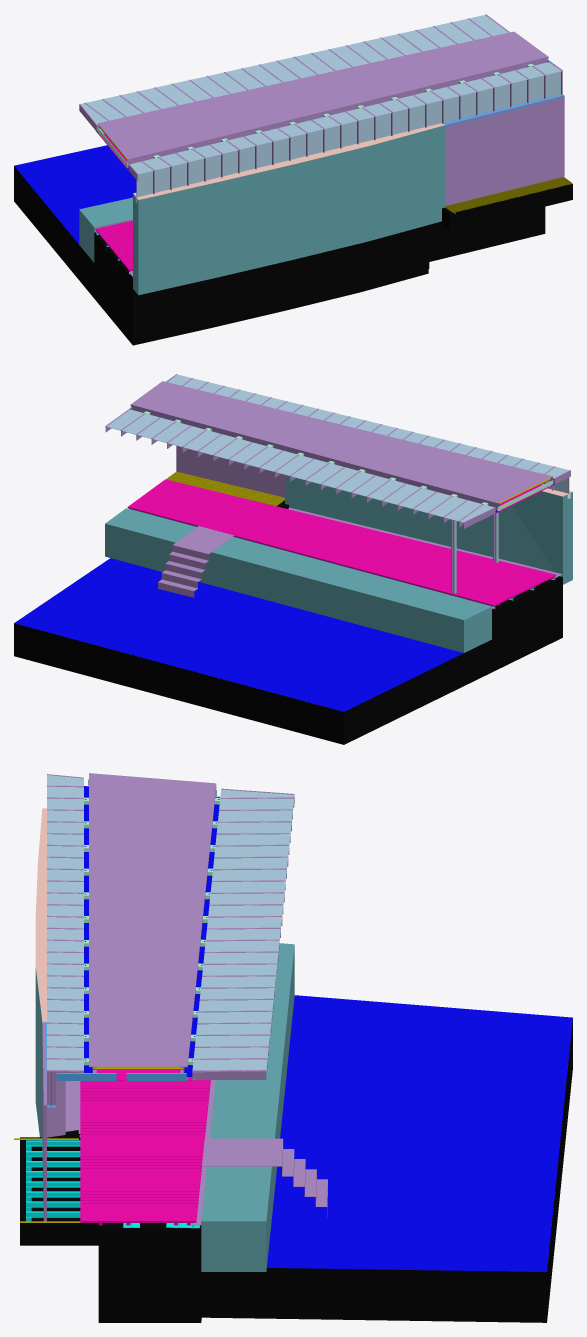
The model's file is 3D_projet.glb.
3 views of the same model, one above another, from view 1: azimuth 30°, elevation 25°; view 2: azimuth 150°, elevation 25°; view 3: azimuth 270°, elevation 25° (orthographic). The views are drawn at different scales.
Size of the model in its own units: 0.0847 by 0.034 by 0.0671.
